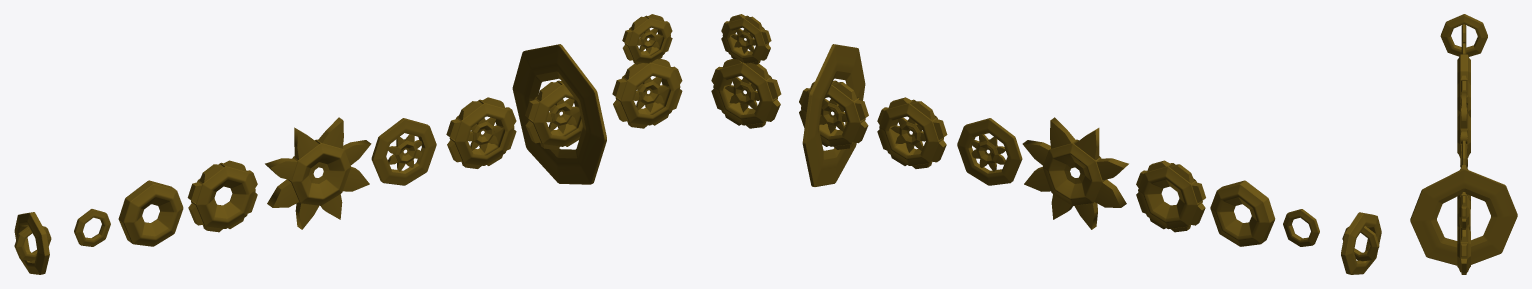
Rendered from cogs.fbx.
3 views of the same model, side by side, from view 1: azimuth 30°, elevation 25°; view 2: azimuth 150°, elevation 25°; view 3: azimuth 270°, elevation 25° (orthographic). The views are drawn at different scales.
Parts seen in each view (by area): view 1: halo_gear, star, Double_gear, gearsimple, plain_gear, flat_gear, bolt_thick, double_bolt, thin_bolt; view 2: halo_gear, star, Double_gear, gearsimple, plain_gear, flat_gear, bolt_thick, double_bolt, thin_bolt; view 3: halo_gear, double_bolt, Double_gear, star, plain_gear, bolt_thick, flat_gear.
Boxes of the visible parts, <box> form: halo_gear: <box>512,44,606,184</box>; star: <box>265,117,371,229</box>; Double_gear: <box>612,14,682,128</box>; gearsimple: <box>446,97,516,168</box>; plain_gear: <box>187,160,257,232</box>; flat_gear: <box>371,118,436,185</box>; bolt_thick: <box>118,180,183,246</box>; double_bolt: <box>14,212,51,274</box>; thin_bolt: <box>74,209,110,246</box>; halo_gear: <box>799,44,868,186</box>; star: <box>1022,117,1128,229</box>; Double_gear: <box>711,14,781,128</box>; gearsimple: <box>877,97,947,168</box>; plain_gear: <box>1136,160,1205,232</box>; flat_gear: <box>957,118,1022,185</box>; bolt_thick: <box>1210,180,1275,246</box>; double_bolt: <box>1341,212,1381,274</box>; thin_bolt: <box>1283,209,1319,246</box>; halo_gear: <box>1410,168,1517,265</box>; double_bolt: <box>1440,14,1487,56</box>; Double_gear: <box>1457,192,1470,274</box>; star: <box>1457,92,1470,168</box>; plain_gear: <box>1457,75,1470,117</box>; bolt_thick: <box>1457,54,1470,84</box>; flat_gear: <box>1461,140,1466,166</box>.
Size of the model in its own units: 376 by 78.5 by 74.17.
